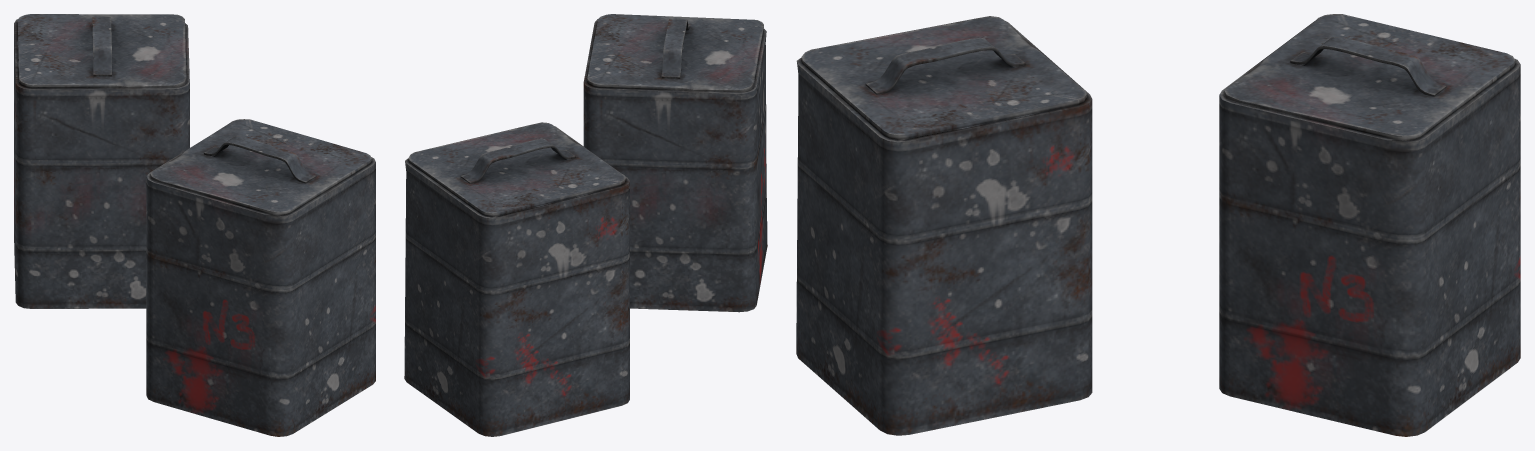
The model's file is canister.glb.
3 renders of one model, left to right at view 1: azimuth 30°, elevation 25°; view 2: azimuth 150°, elevation 25°; view 3: azimuth 270°, elevation 25°, orthographic. The views are drawn at different scales.
Visible parts, largest first — view 1: bottom_low, bottom_low.001, cover_low, cover_low.001, handle_low, handle_low.001; view 2: bottom_low.001, bottom_low, cover_low, cover_low.001, handle_low.001, handle_low; view 3: bottom_low.001, bottom_low, cover_low.001, cover_low, handle_low.001, handle_low.
Part boxes in pixels (<box>): bottom_low: <box>146,142,375,436</box>; bottom_low.001: <box>14,19,189,308</box>; cover_low: <box>150,119,371,215</box>; cover_low.001: <box>17,14,186,88</box>; handle_low: <box>204,136,316,183</box>; handle_low.001: <box>92,17,111,76</box>; bottom_low.001: <box>404,126,629,436</box>; bottom_low: <box>583,19,767,312</box>; cover_low: <box>587,14,763,92</box>; cover_low.001: <box>408,122,625,216</box>; handle_low.001: <box>460,138,575,183</box>; handle_low: <box>661,19,689,78</box>; bottom_low.001: <box>1219,21,1520,436</box>; bottom_low: <box>796,20,1092,435</box>; cover_low.001: <box>1224,14,1515,140</box>; cover_low: <box>801,16,1086,139</box>; handle_low.001: <box>1290,37,1446,96</box>; handle_low: <box>865,37,1025,94</box>.
Size of the model in its own units: 0.4244 by 0.5021 by 1.02.
1 material, 1 textured.
